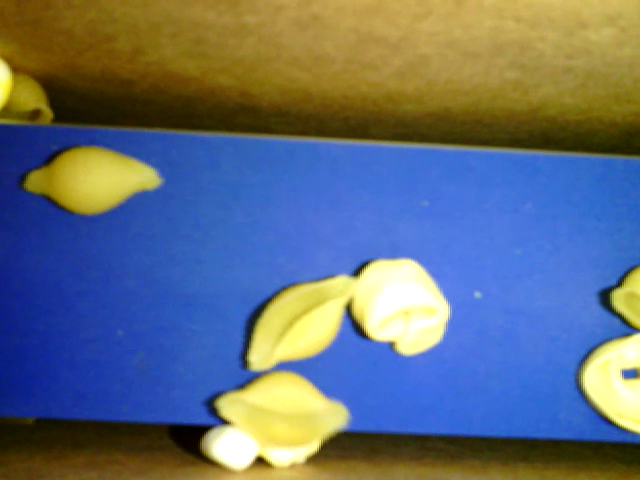shell: (241, 269, 354, 371), (211, 367, 355, 446), (24, 142, 164, 214), (1, 71, 56, 127), (605, 266, 639, 326)
tortellini: (351, 259, 451, 358), (578, 330, 639, 430)
